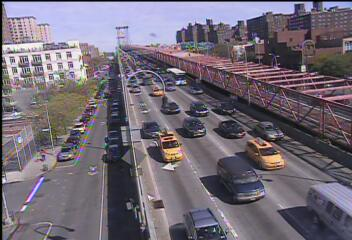neg: (87, 159, 102, 178), (259, 74, 273, 93), (291, 74, 305, 93), (9, 37, 23, 56), (46, 181, 60, 200), (308, 24, 322, 43), (207, 43, 221, 61), (86, 47, 99, 64), (52, 24, 65, 41), (265, 29, 278, 46), (255, 151, 267, 167), (235, 84, 247, 100), (107, 31, 119, 46), (16, 173, 28, 188), (188, 92, 200, 107), (139, 167, 150, 182), (315, 73, 326, 88), (302, 127, 313, 141), (54, 81, 64, 95), (20, 106, 30, 120), (198, 168, 208, 181), (47, 52, 57, 65), (146, 18, 155, 31), (68, 105, 77, 118), (147, 58, 156, 70), (154, 98, 163, 110), (48, 110, 56, 121), (124, 119, 132, 129)
pos: (37, 146, 48, 161)
